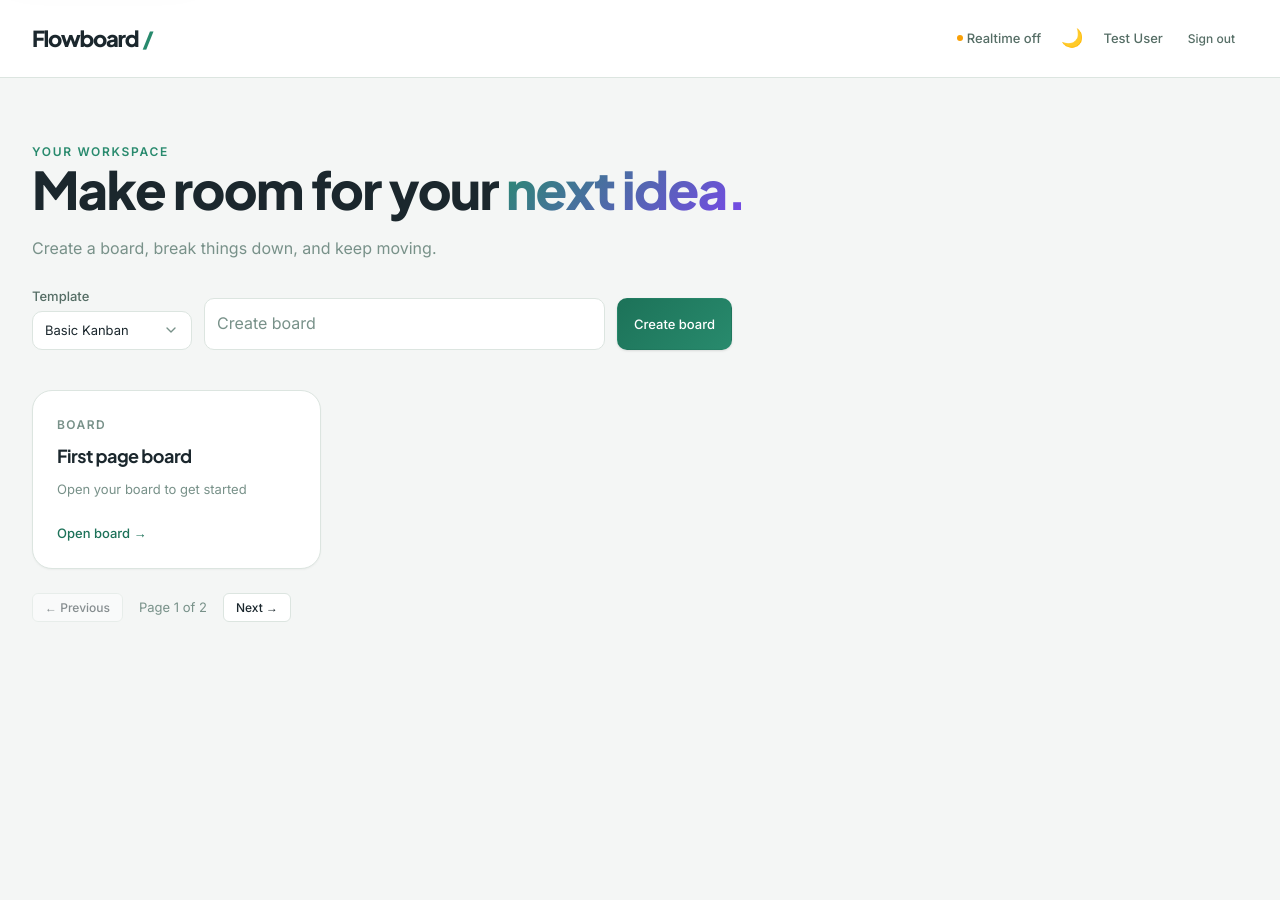
Test: loads the next board page through accessible navigation
This screenshot has width=1280, height=900.
Expected: the heading "First page board" is shown, [57, 444, 192, 467]
Expected: the button "← Previous" is disabled, [32, 593, 123, 622]
Click the button "Next →" at (257, 608), box [223, 593, 291, 622]
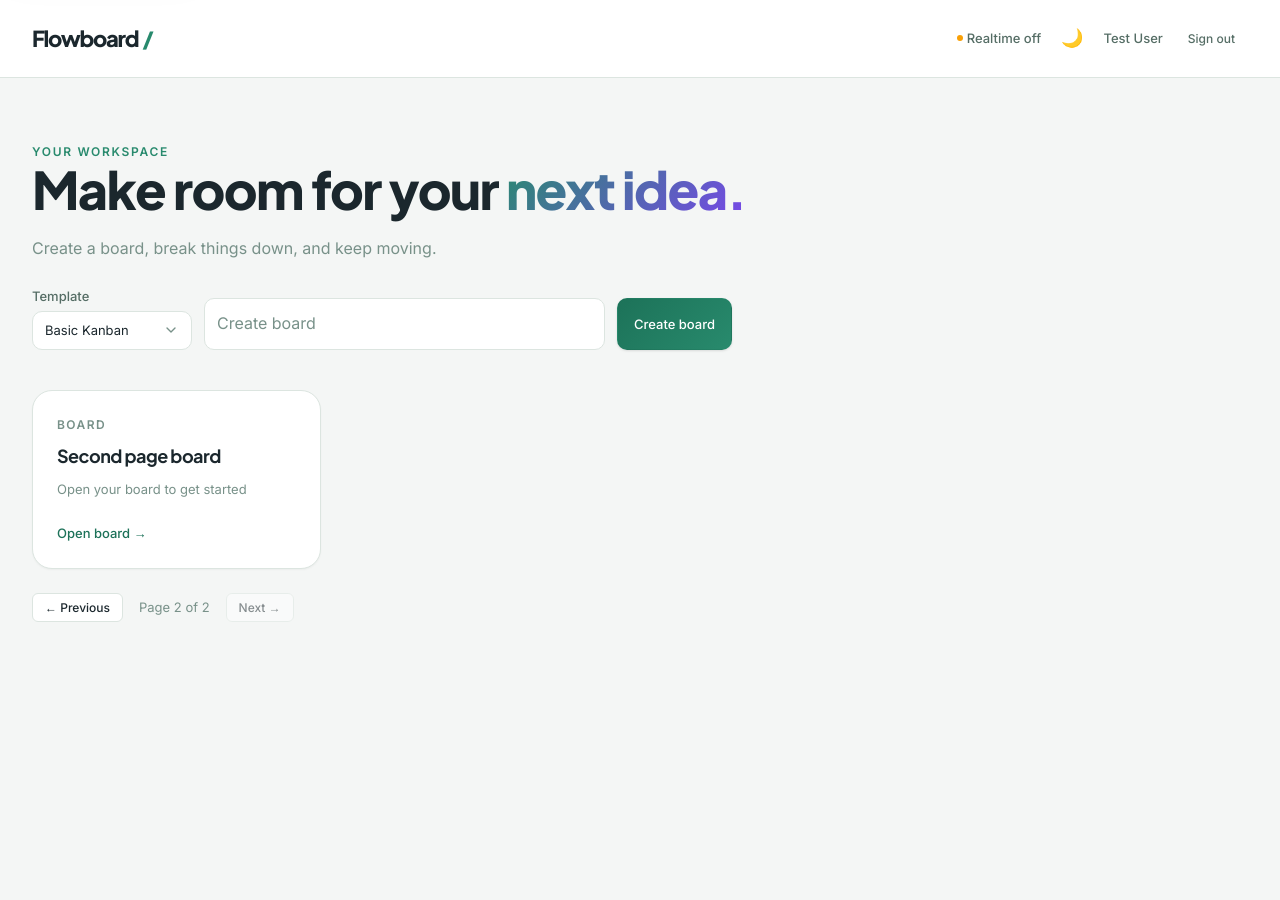
Now the heading "Second page board" is shown, box [57, 444, 221, 467]
Now the button "Next →" is disabled, box [226, 593, 294, 622]
